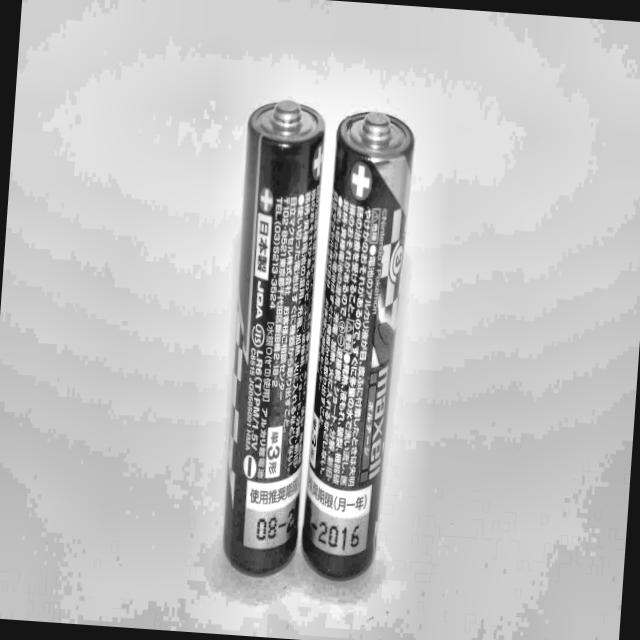drycell: (282, 96, 431, 590), (208, 78, 334, 597)
